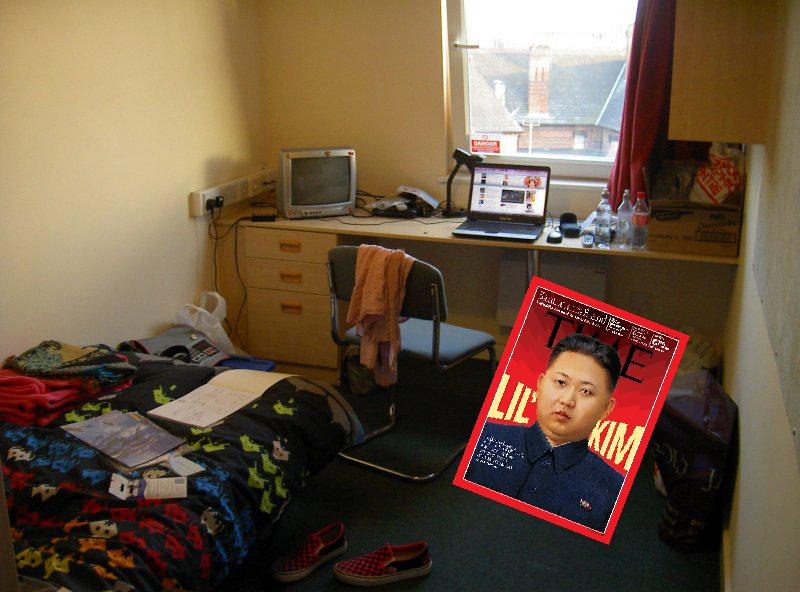times: (452, 276, 690, 546)
